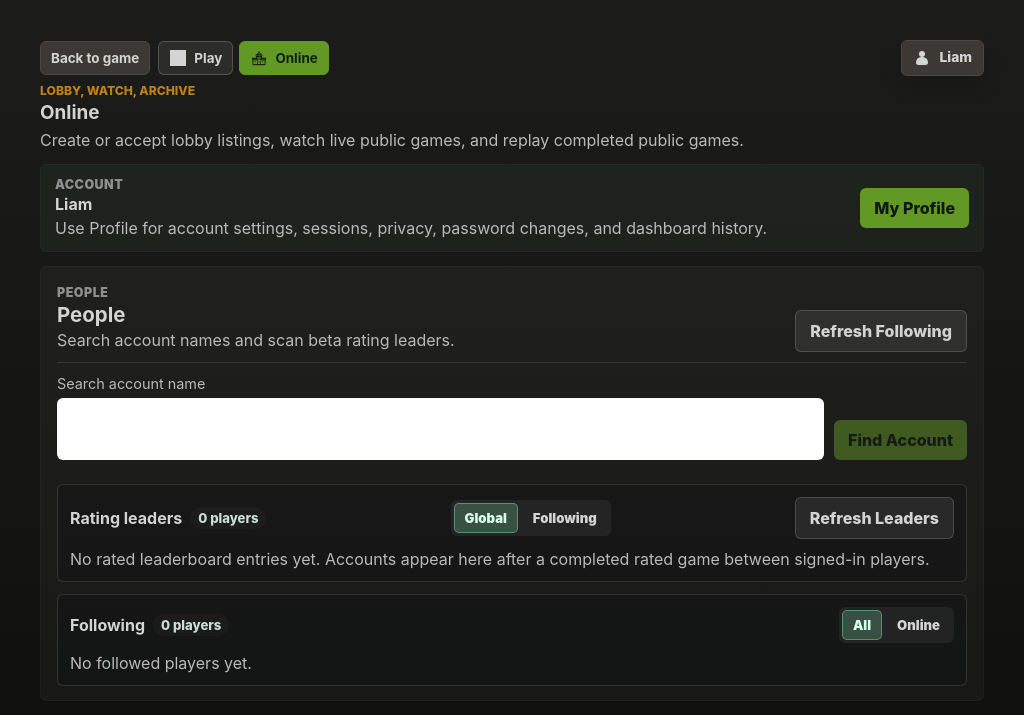
Test: OnlineGameBrowser › explains why new accounts are absent from empty rating leaders
This screenshot has width=1024, height=715.
Expected: the text "No rated leaderboard entries yet. Accounts appear here after a completed rated game between signed-in players." is shown, [70,549,930,569]
Click the button "Following" at (565, 518), box [522,503,608,533]
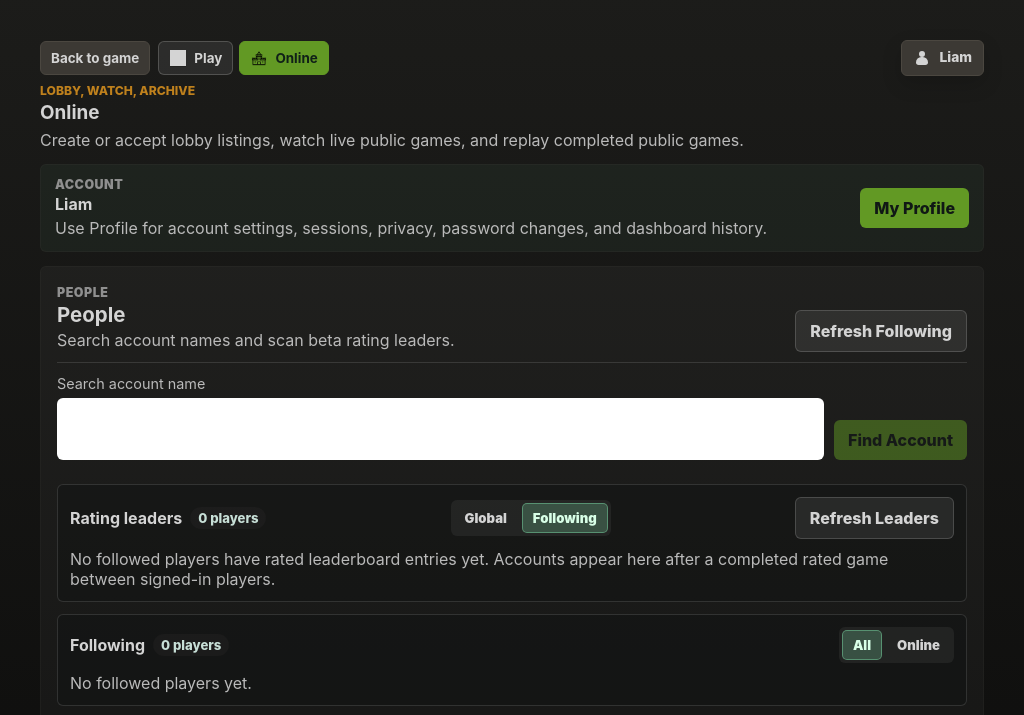
Expected: the text "No followed players have rated leaderboard entries yet. Accounts appear here after a completed rated game between signed" is shown, [70,549,888,589]
